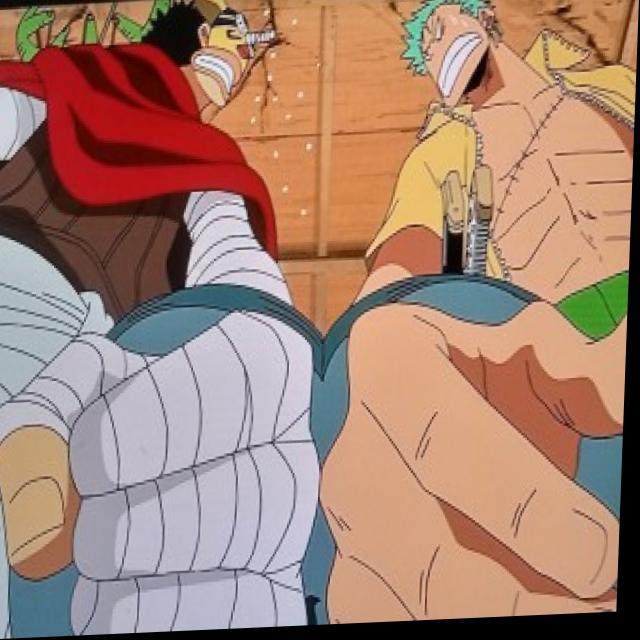Usopp: (127, 0, 290, 157)
Zoro: (386, 0, 518, 119)
